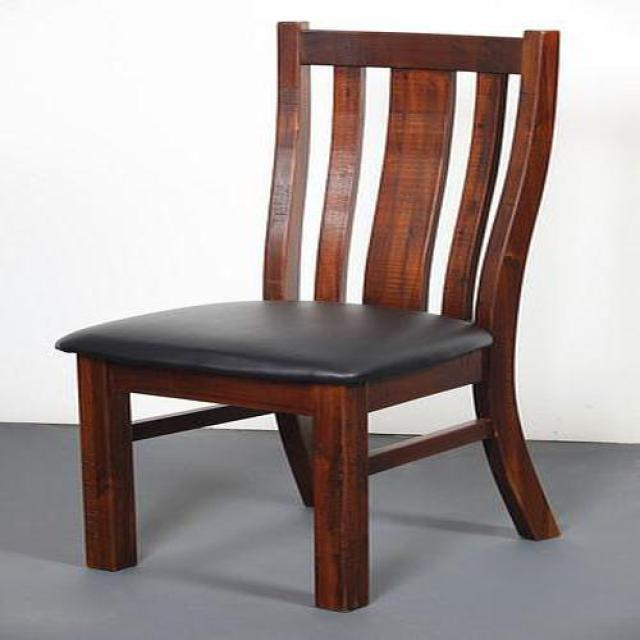chair: (55, 22, 562, 614)
